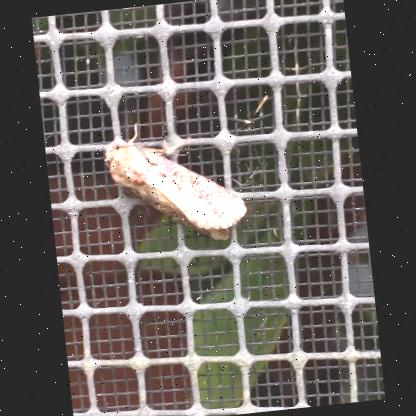Fall Armyworm Moth: (98, 111, 252, 254)
